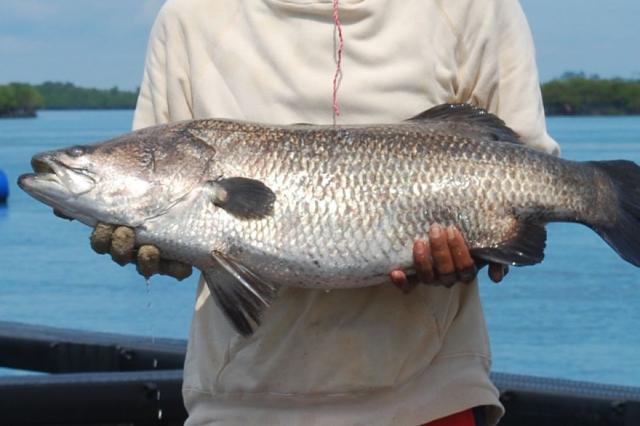Mulut: (5, 121, 94, 238)
Sirip Anal: (461, 208, 561, 290)
Sirip Dada: (186, 164, 290, 234)
Sirip Ekor: (564, 149, 640, 275)
Sirip Perut: (192, 238, 290, 352)
Sirip Punggung: (398, 92, 536, 152)
